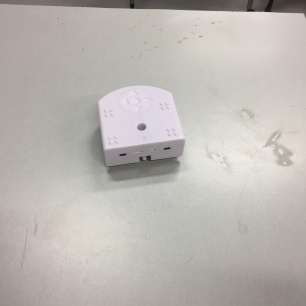thymio: (89, 78, 193, 172)
